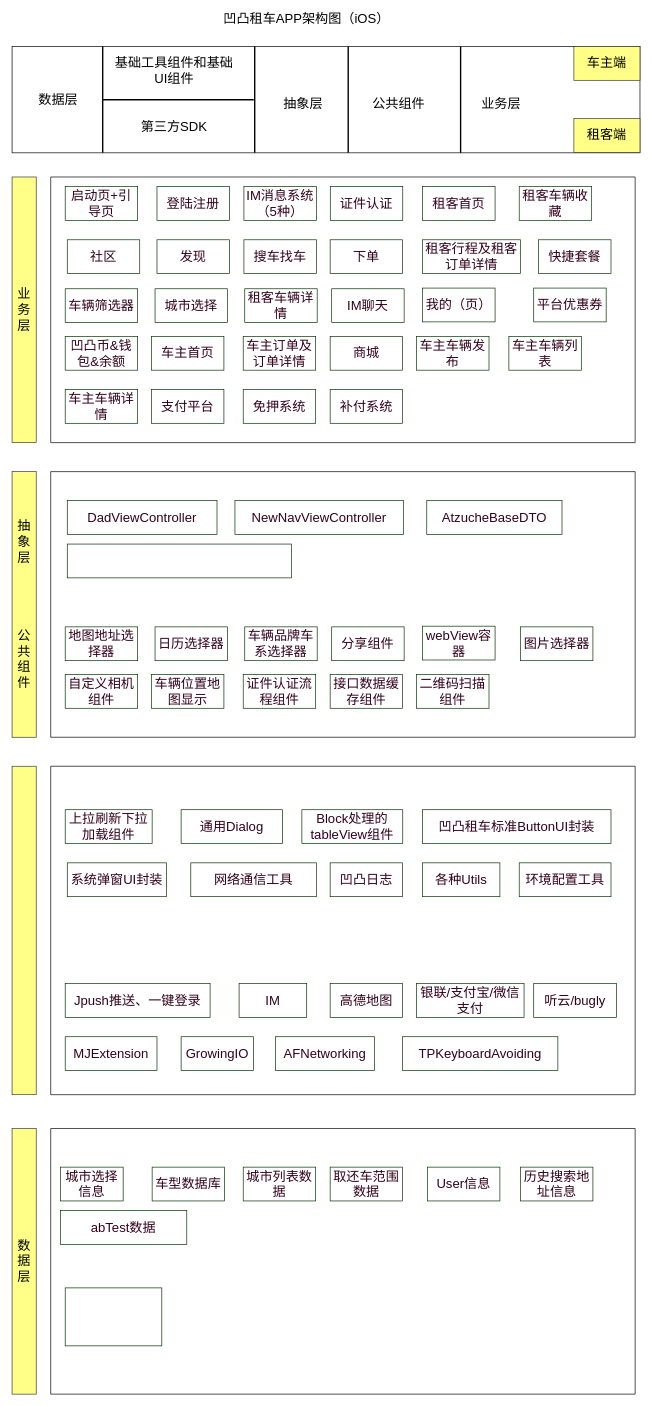
Image size: 652x1406. Some labels were removed from this diagram. The shapes that lost their labels are listed below. From the top down, each one's centre as x and y in pixels, then its label:
At [179,560]: "BaseRequest&BaseResponse".
At [23,930]: "基础工具和基础UI 第三方 S D K".
At [113,1316]: "其他网络数据及数据模型".
